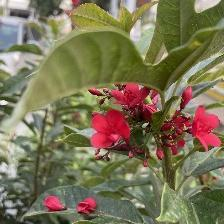jatropha: (90, 108, 132, 151)
